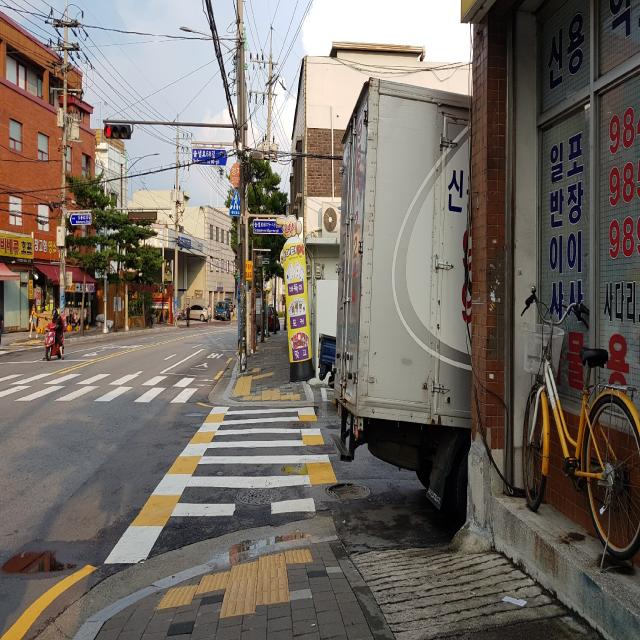횡단보도: (170, 408, 316, 516)
